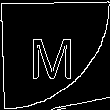M_N: (31, 28, 79, 82)
